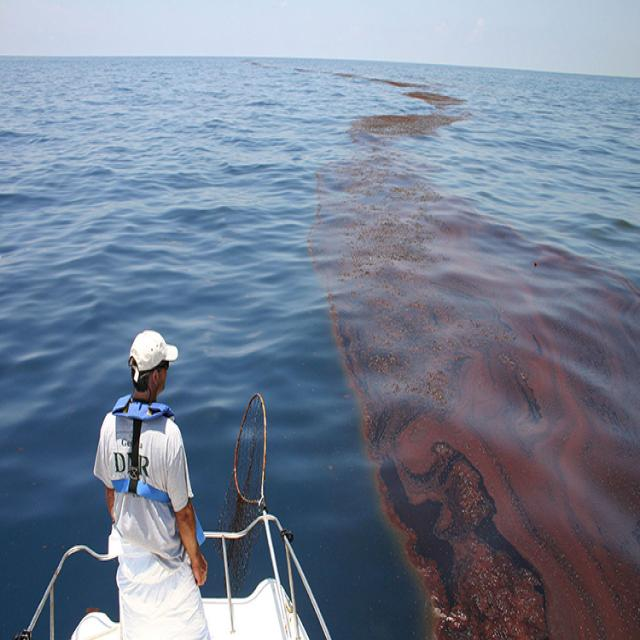truecolor: (310, 111, 639, 640)
